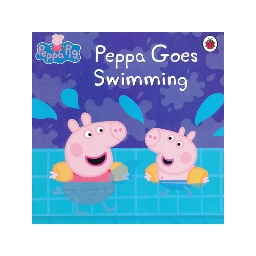Peppa: (49, 111, 131, 183)
